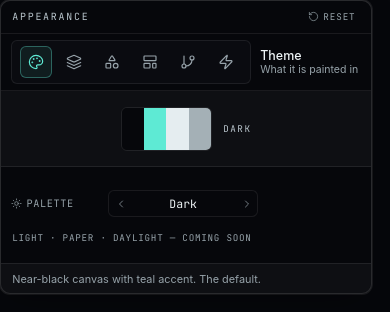
AdvancedSettingsPanel › shows one group at a time
Click the button named "Corners" at {"x": 112, "y": 62}, box 96,46 -> 128,78
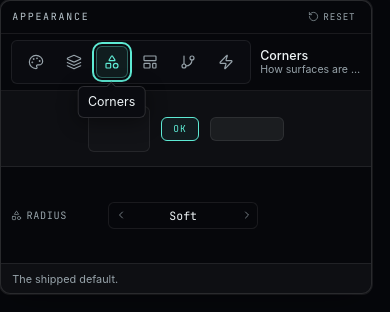
expect the text "Radius" is shown: met, box 11,209 -> 67,222
